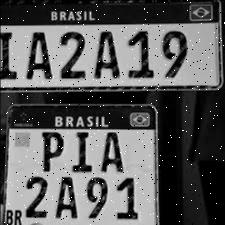placa_mercosul: (0, 1, 221, 92), (4, 105, 158, 224)
